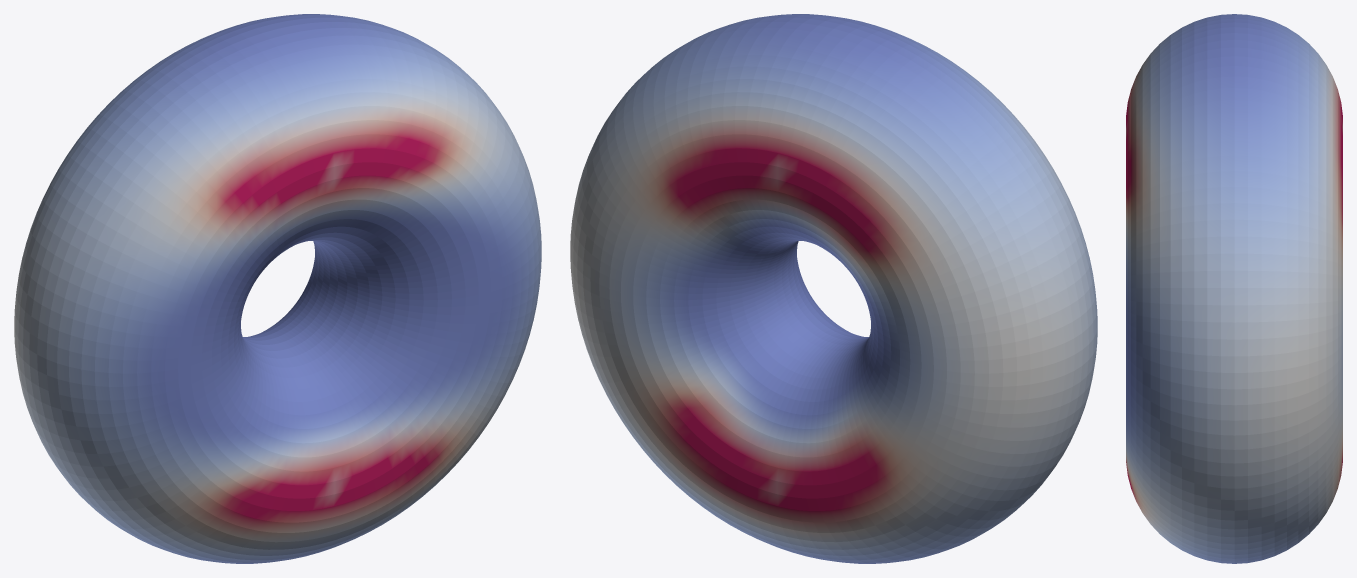
3 renders of one model, left to right at view 1: azimuth 30°, elevation 25°; view 2: azimuth 150°, elevation 25°; view 3: azimuth 270°, elevation 25°, orthographic. The views are drawn at different scales.
Parts seen in each view (by area): view 1: world; view 2: world; view 3: world.
Part boxes in pixels (box(x1,y1,x2,y2)): world: box(14, 14, 541, 563); world: box(570, 14, 1097, 563); world: box(1126, 14, 1342, 563).
Bounding box in the file's own units: 16.53 × 16.53 × 6.52.
